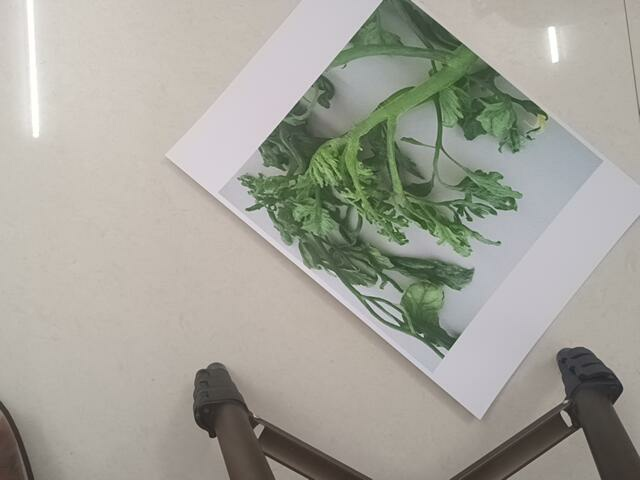Tomamto_Mosaic_virus: (246, 3, 543, 348)
